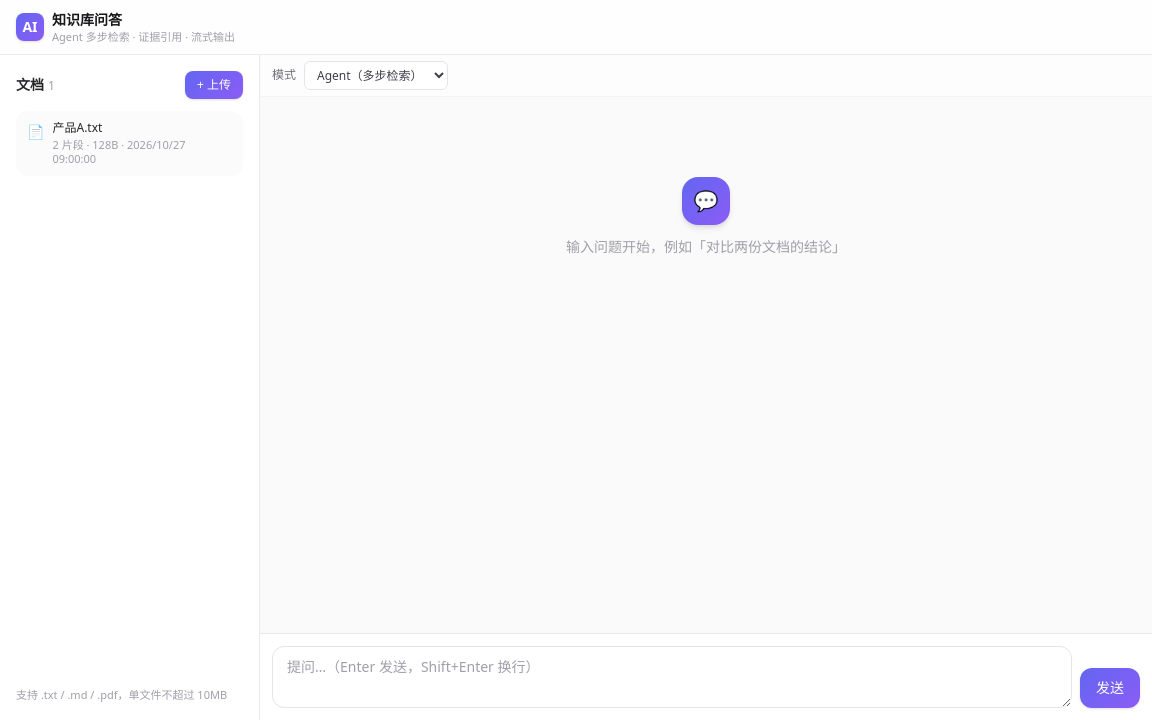
Test: 停止生成 › 停止后不会误报错误
The image size is (1152, 720).
Type "苹果" into the text box with test id "chat-input" at (672, 677), box [272,646,1072,708]
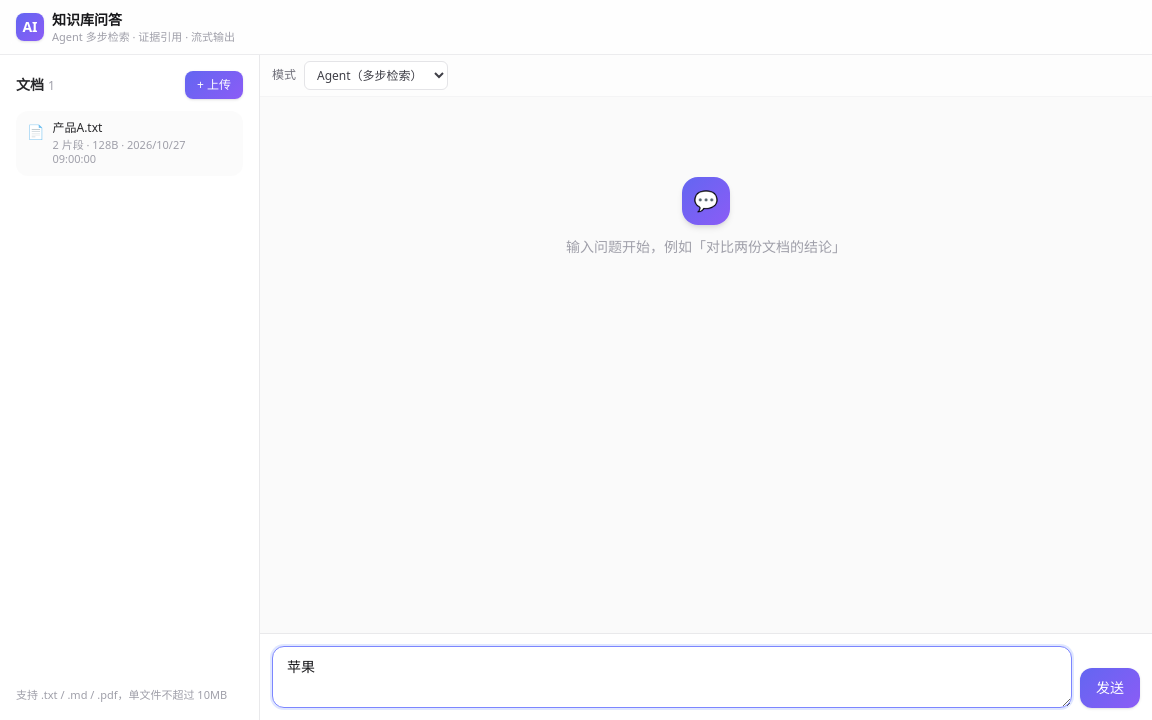
Click the button with test id "send-button" at (1110, 688), box [1080,668,1140,708]
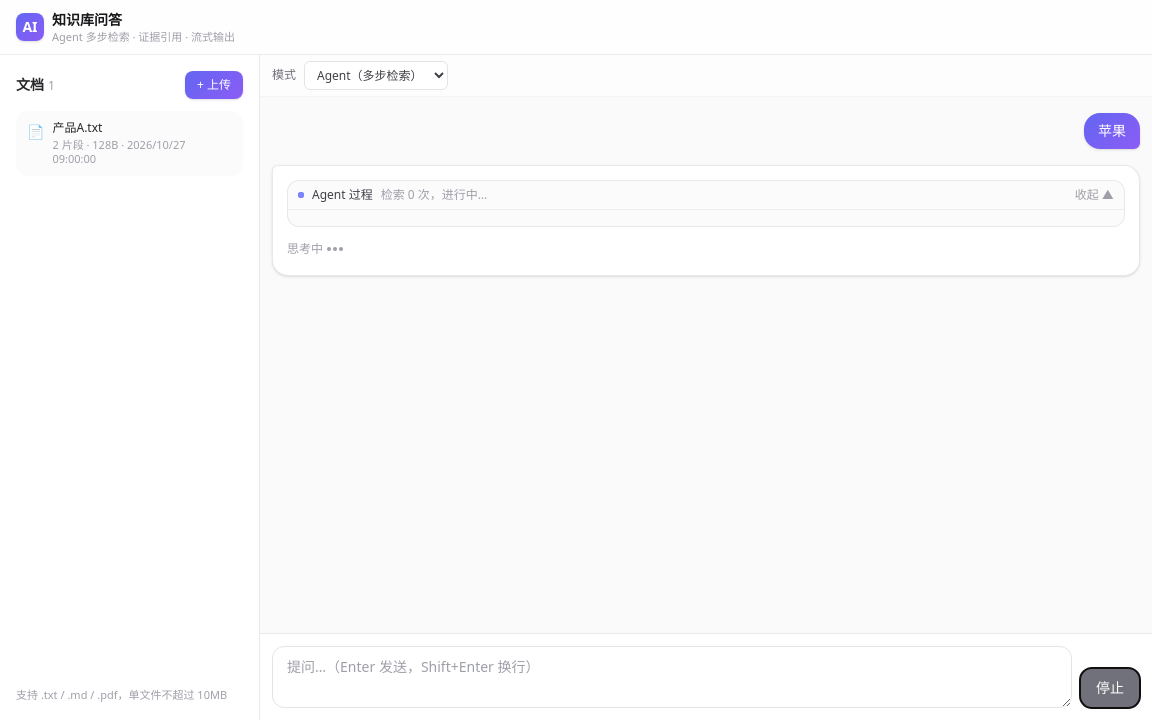
Now the button with test id "send-button" reads "停止"
Click the button with test id "send-button" at (1110, 688), box [1080,668,1140,708]
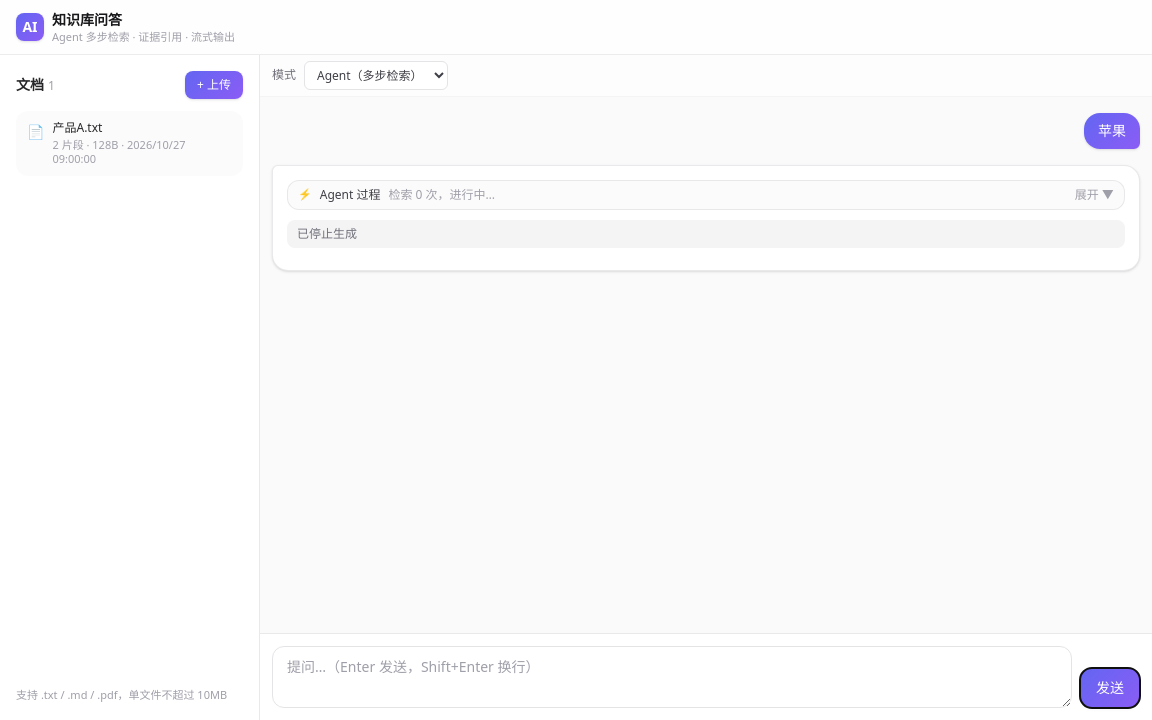
Now the message "已停止生成" is shown, box [287,220,1125,248]
